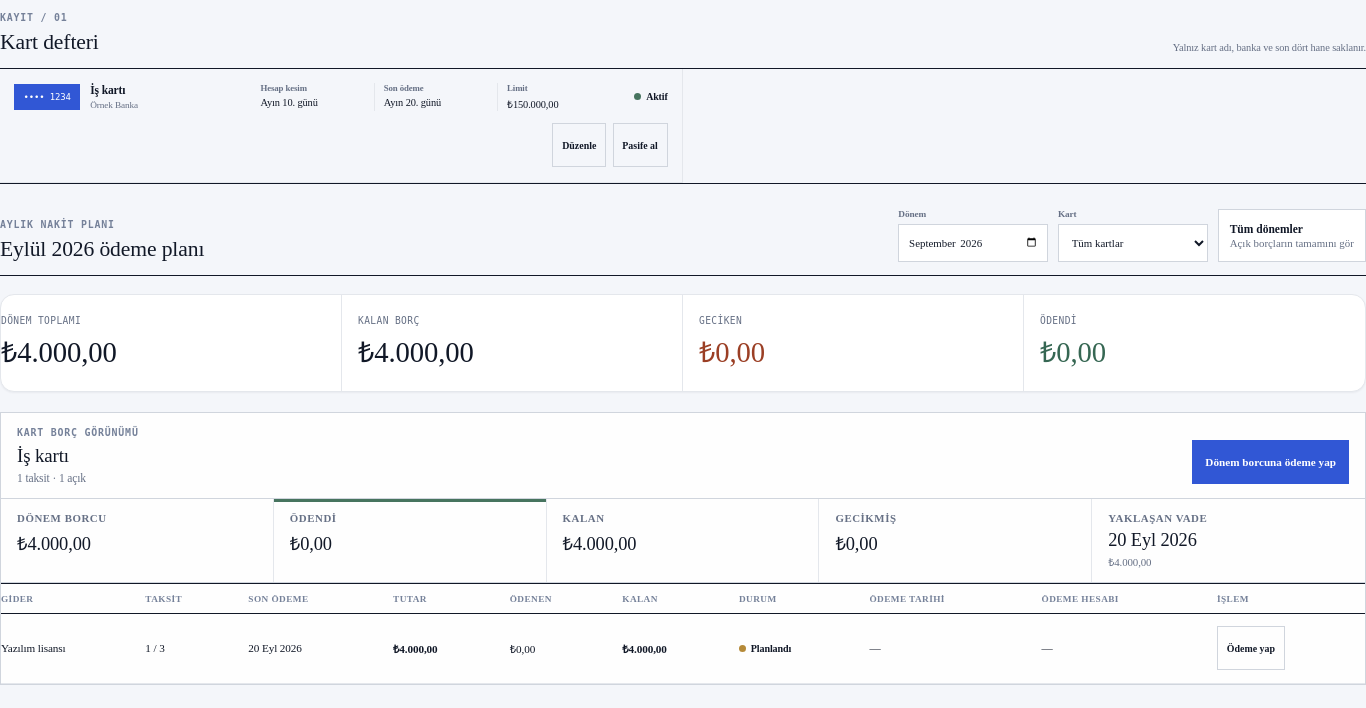
Test case: CardPlanWorkspace › records a partial installment payment with its amount and a stable retry key
(page scrolled)
Click the button with aria-label "taksitini öde": point(1251, 648) x1=1217 y1=626 x2=1285 y2=670
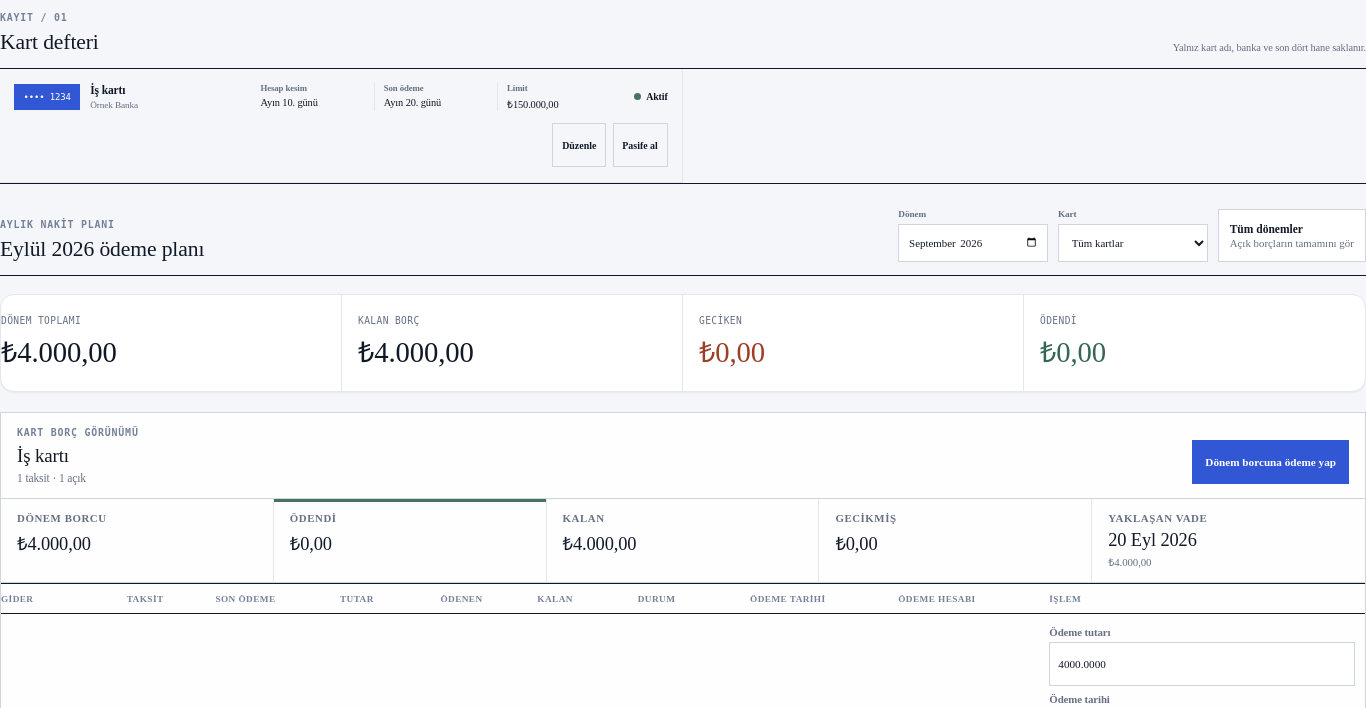
Replace the text in the number field named "Yazılım lisansı 1. taksit ödeme tutarı" with "1500": point(1202, 664) x1=1049 y1=642 x2=1355 y2=686
(page scrolled)
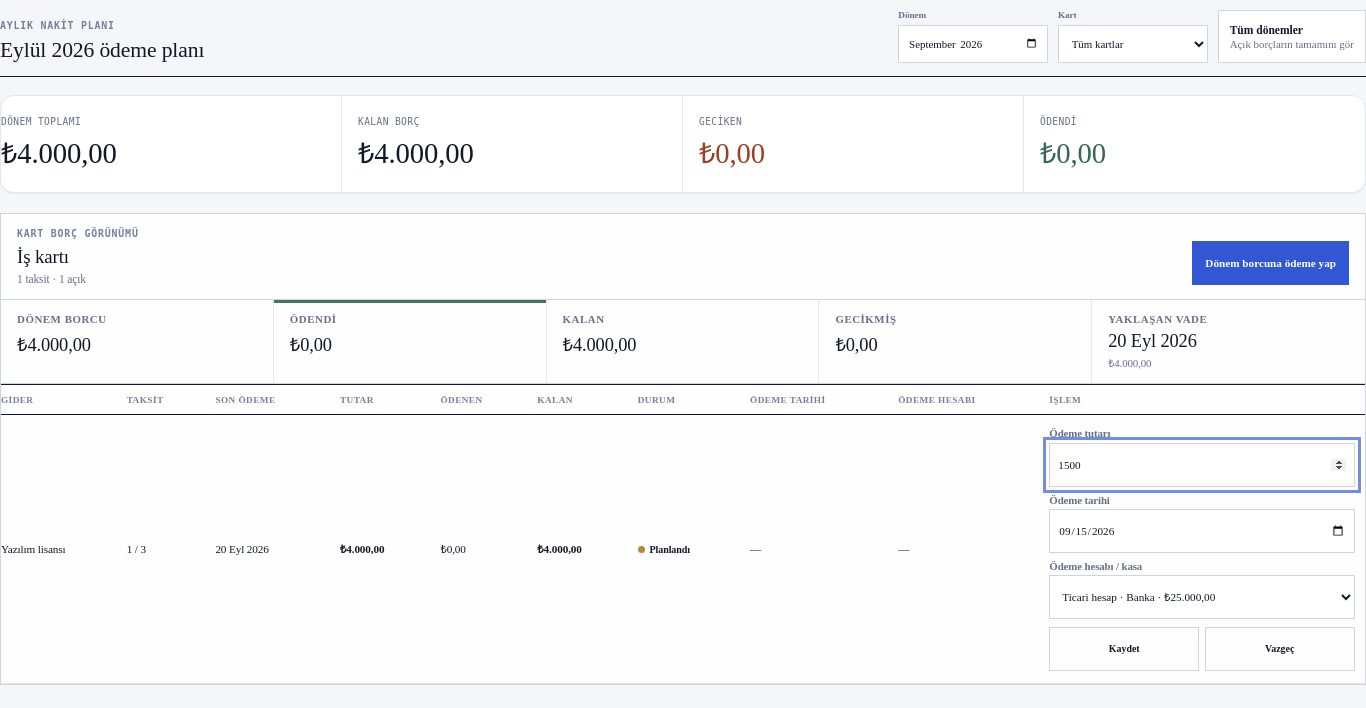
In the date field named "Yazılım lisansı 1. taksit ödeme tarihi": point(1202, 531) x1=1049 y1=509 x2=1355 y2=553, type "2026-08-31"
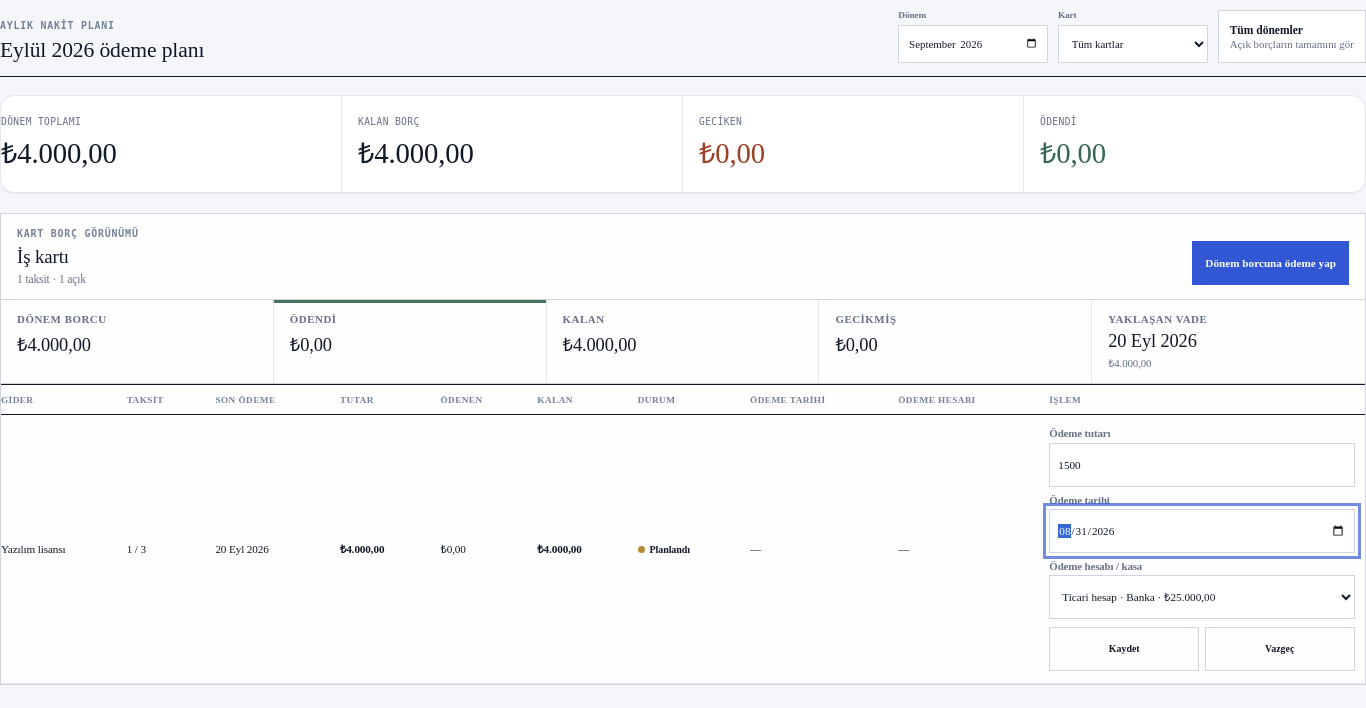
Click the button with aria-label "Yazılım lisansı 1. taksit ödemesini kaydet": point(1124, 648) x1=1049 y1=626 x2=1199 y2=670
(page scrolled)
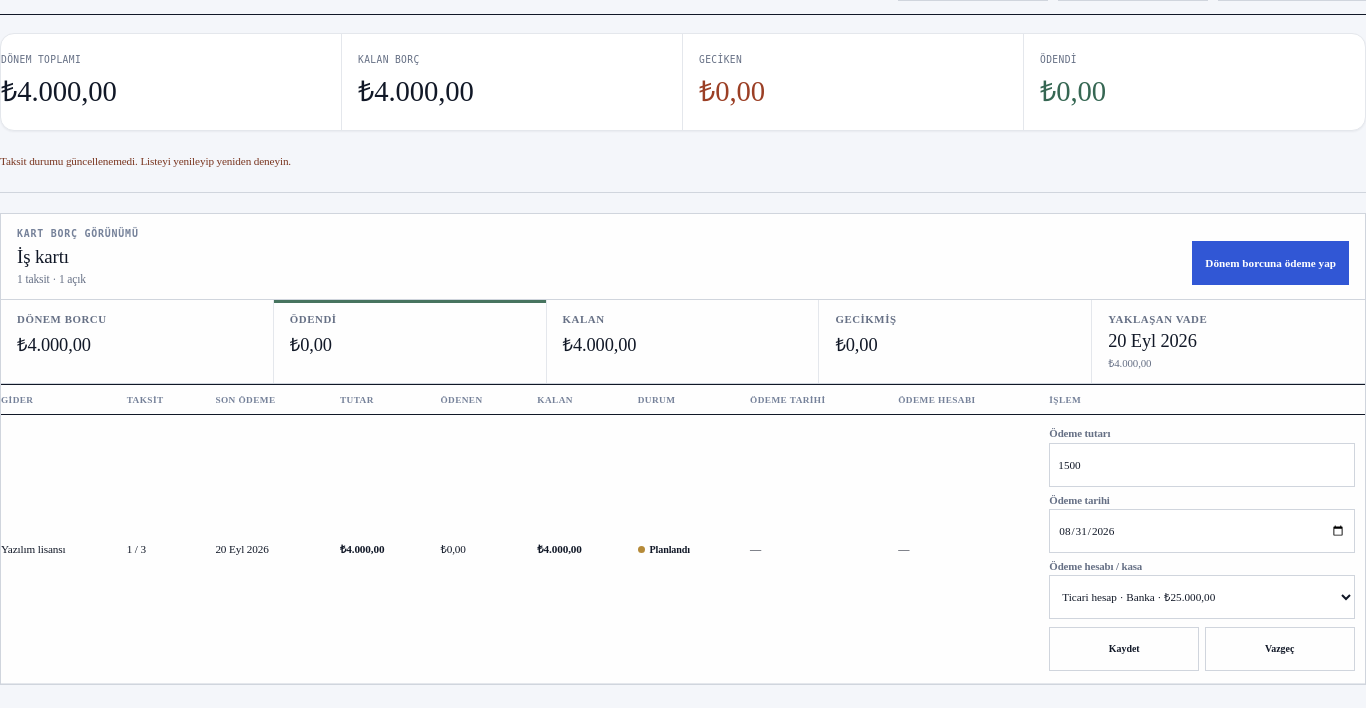
Expected: the text "Taksit durumu güncellenemedi" is shown, x1=0 y1=155 x2=291 y2=167
Click the button with aria-label "Yazılım lisansı 1. taksit ödemesini kaydet": point(1124, 648) x1=1049 y1=626 x2=1199 y2=670
(page scrolled)
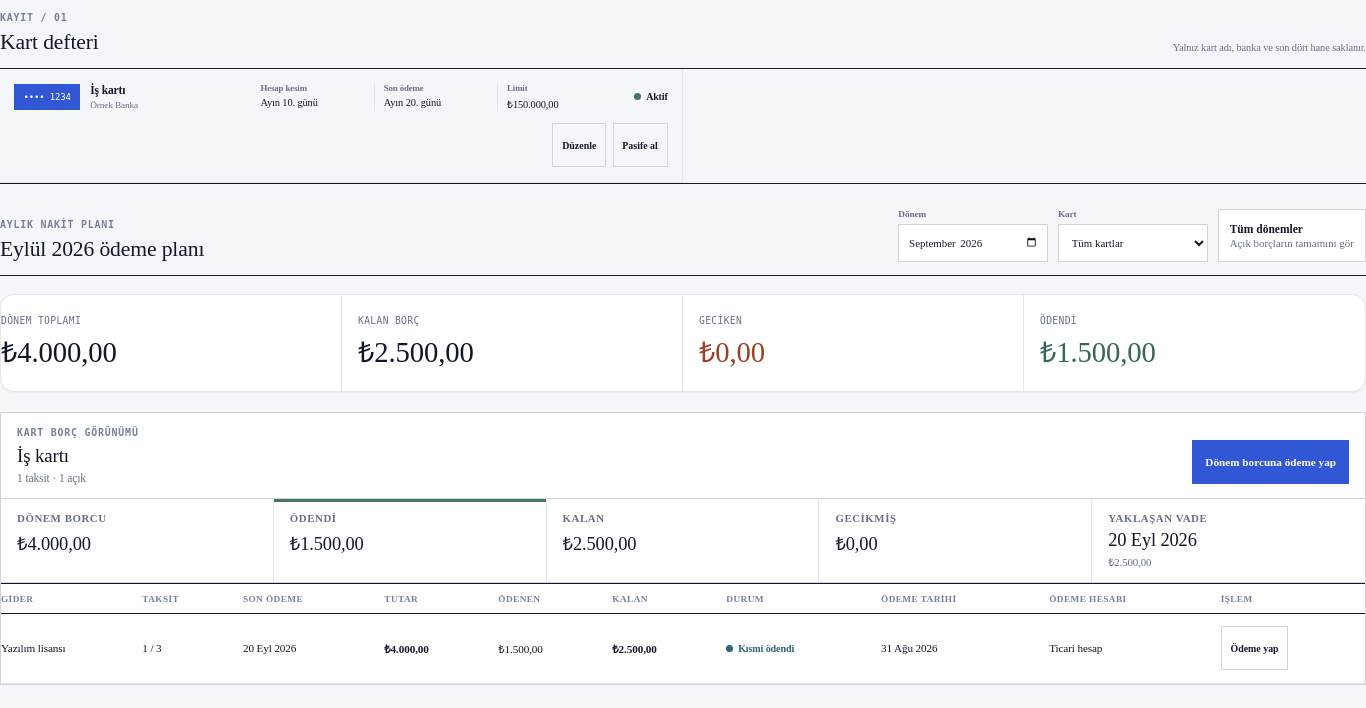
Expected: the text "Kısmi ödendi" is shown, x1=726 y1=643 x2=794 y2=654
Expected: the 1st text "₺1.500,00" is shown, x1=1040 y1=336 x2=1156 y2=368
Expected: the text "₺2.500,00" below "Kalan borç" is shown, x1=358 y1=336 x2=474 y2=368
